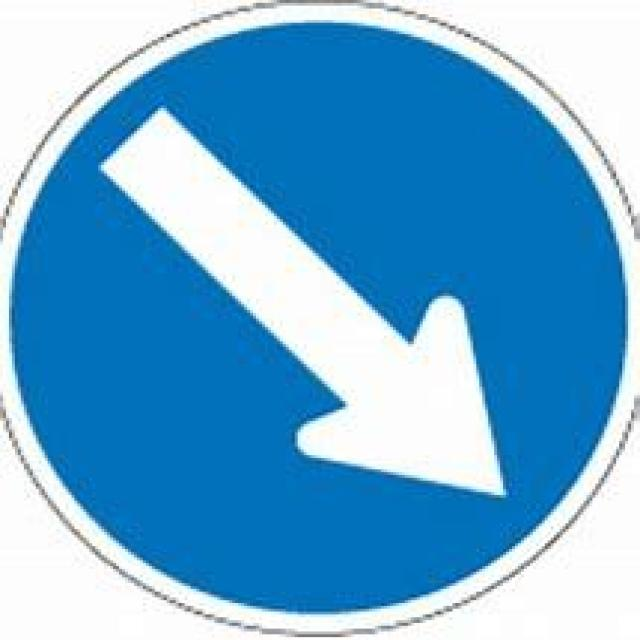compulsory_keep_left: (0, 0, 637, 637)
